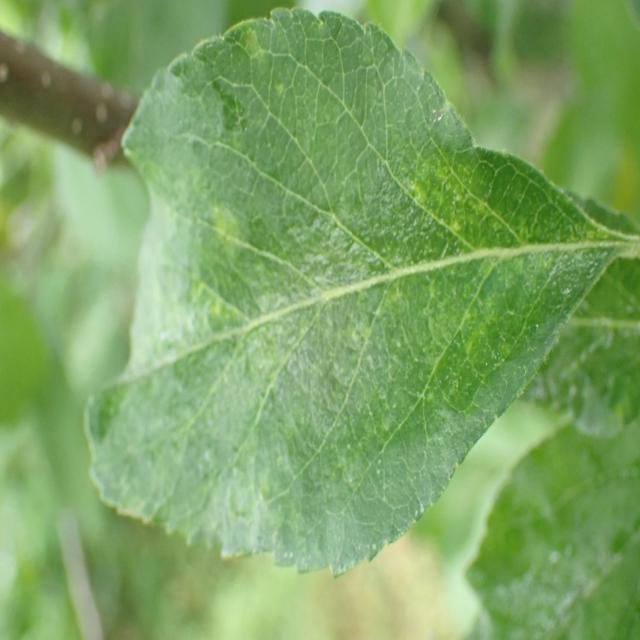scab: (145, 54, 526, 532)
